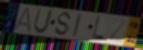A: (13, 6, 32, 34)
I: (71, 12, 83, 40)
L: (91, 16, 105, 41)
S: (54, 11, 73, 37)
U: (32, 8, 54, 35)
Z: (107, 18, 129, 44)
